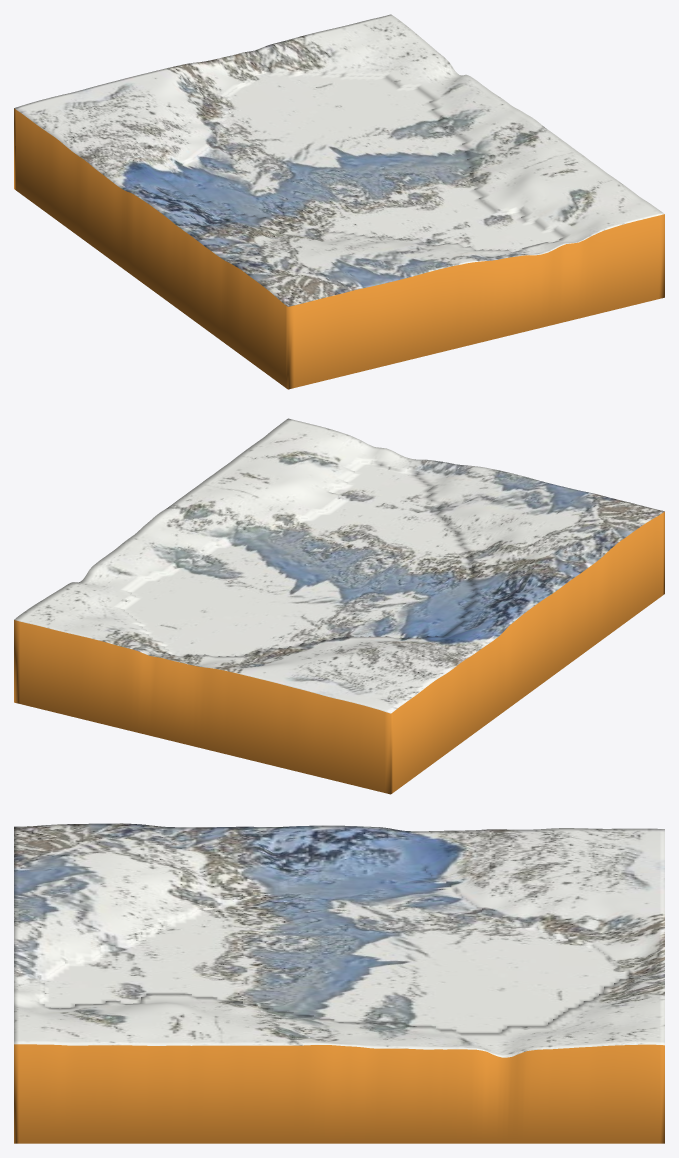
Rendered from teques.fbx.
3 views of the same model, one above another, from view 1: azimuth 30°, elevation 25°; view 2: azimuth 150°, elevation 25°; view 3: azimuth 270°, elevation 25° (orthographic). The views are drawn at different scales.
Visible parts, largest first — view 1: EXPORT_GOOGLE_SAT_WM; view 2: EXPORT_GOOGLE_SAT_WM; view 3: EXPORT_GOOGLE_SAT_WM.
Part boxes in pixels (x1=…): EXPORT_GOOGLE_SAT_WM: x1=14, y1=14, x2=664, y2=389; EXPORT_GOOGLE_SAT_WM: x1=14, y1=418, x2=664, y2=794; EXPORT_GOOGLE_SAT_WM: x1=14, y1=823, x2=664, y2=1143.
Bounding box in the file's own units: 388555 × 84927 × 489197.
